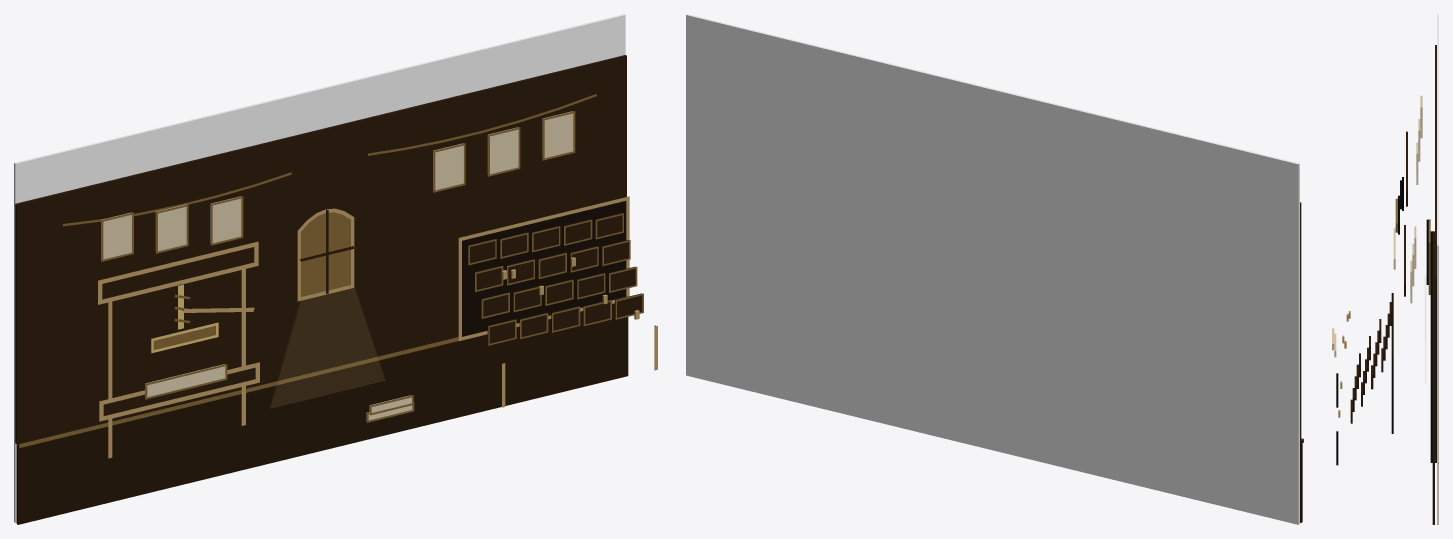
File: loc-tipografiya.glb
The picture shows the model from 3 angles, left to right: view 1: azimuth 30°, elevation 25°; view 2: azimuth 150°, elevation 25°; view 3: azimuth 270°, elevation 25°; orthographic projection. The views are drawn at different scales.
Parts seen in each view (by area): view 1: loc-tipografiya; view 2: loc-tipografiya; view 3: loc-tipografiya.
Part boxes in pixels (x1=…): loc-tipografiya: x1=14, y1=14, x2=657, y2=524; loc-tipografiya: x1=686, y1=14, x2=1303, y2=524; loc-tipografiya: x1=1332, y1=14, x2=1438, y2=524.
Bounding box in the file's own units: 5.33 × 3 × 1.04.
